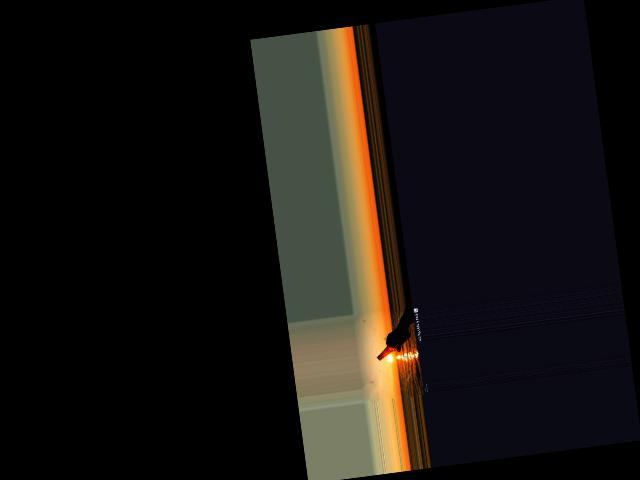beer: (373, 328, 413, 360)
